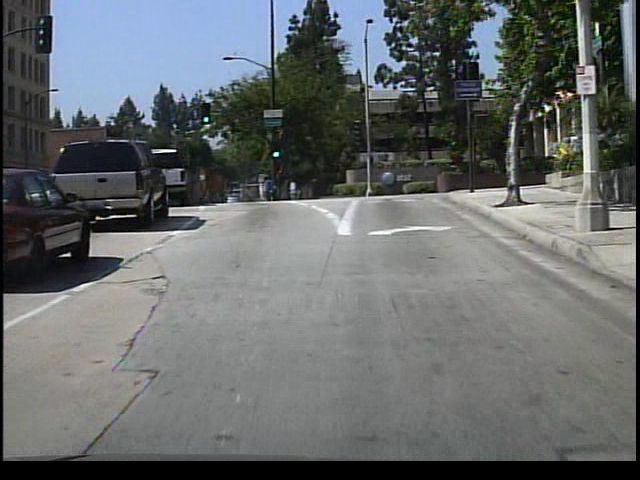person: (259, 170, 278, 204), (286, 175, 302, 203)
